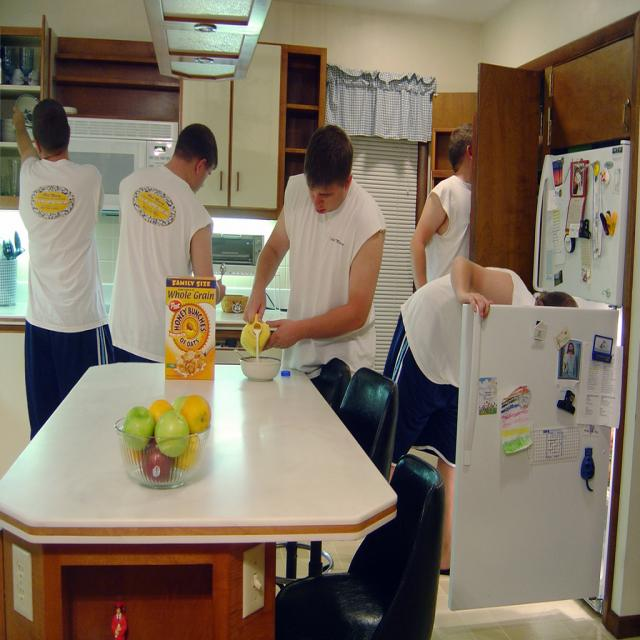chair: (276, 451, 445, 639), (337, 367, 399, 481), (309, 356, 351, 412)
desk: (11, 372, 390, 639)
person: (241, 122, 387, 376), (14, 97, 114, 438), (107, 122, 220, 364), (411, 121, 474, 288)
